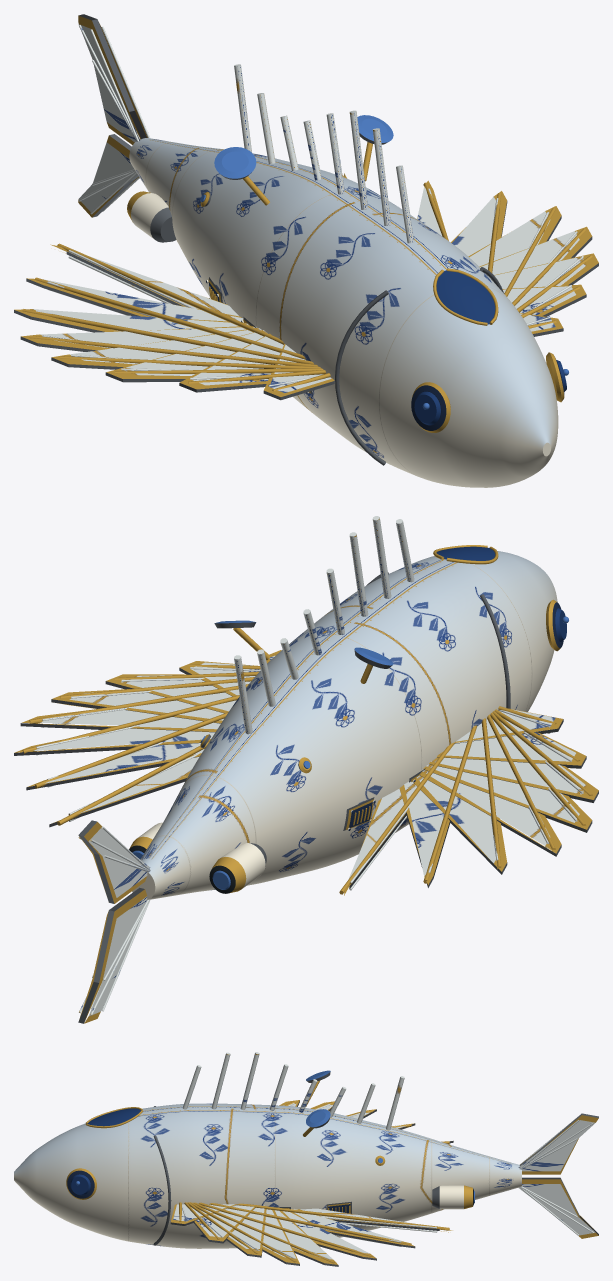
3 renders of one model, top to bottom at view 1: azimuth 30°, elevation 25°; view 2: azimuth 150°, elevation 25°; view 3: azimuth 270°, elevation 25°, orthographic. The views are drawn at different scales.
Parts seen in each view (by area): view 1: lionfish_hull; view 2: lionfish_hull; view 3: lionfish_hull.
Boxes of the visible parts, x1,y1,x2,y2 form: lionfish_hull: [14, 14, 598, 487]; lionfish_hull: [14, 516, 598, 1023]; lionfish_hull: [14, 1052, 598, 1266].
Bounding box in the file's own units: 45.14 × 24.54 × 68.
Materials: 1 (1 with a texture image).
